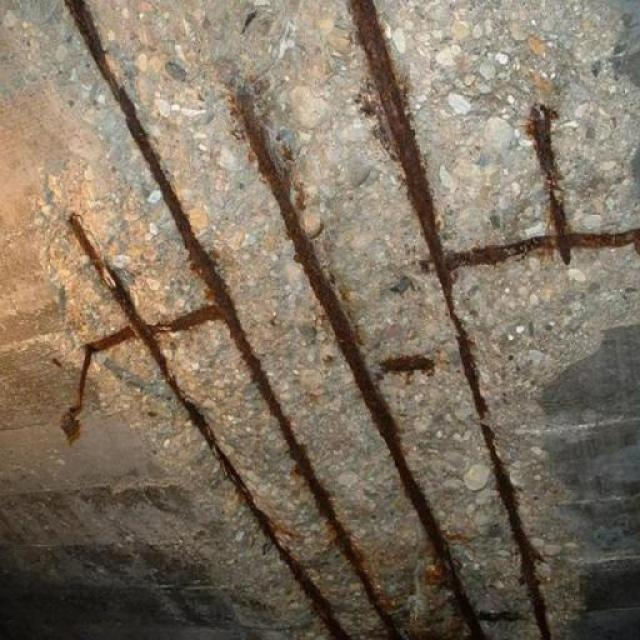D0w0: (2, 0, 639, 639)
